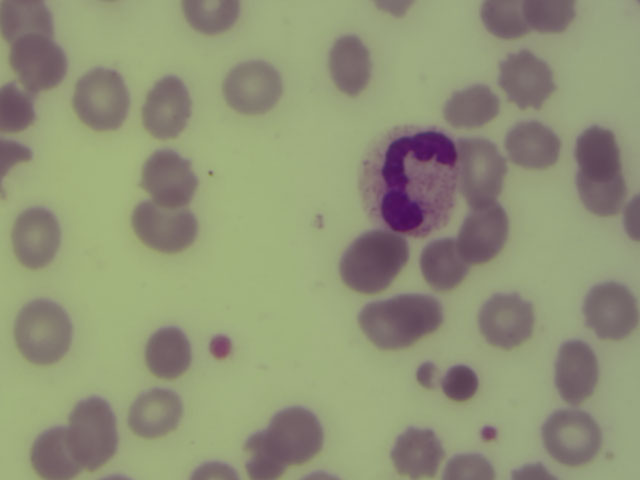Platelets: (211, 335, 234, 360), (483, 428, 495, 441)
RBC: (456, 139, 516, 204), (345, 231, 406, 294), (20, 301, 78, 366), (72, 398, 128, 464), (541, 412, 605, 467), (78, 70, 134, 132), (135, 198, 203, 248), (583, 284, 640, 342), (275, 404, 330, 463), (148, 76, 195, 145), (357, 303, 416, 357), (145, 151, 200, 207), (324, 37, 373, 98), (391, 423, 443, 479), (17, 38, 67, 94), (227, 63, 284, 112), (501, 57, 559, 105), (13, 214, 64, 268), (142, 327, 194, 379), (244, 429, 294, 480), (507, 118, 559, 167), (466, 207, 513, 260), (554, 344, 601, 397), (132, 389, 184, 436), (7, 2, 60, 48), (486, 295, 532, 348), (35, 428, 81, 479), (446, 86, 500, 127), (578, 120, 615, 179), (423, 241, 467, 288), (384, 295, 438, 333), (181, 3, 243, 34), (572, 173, 617, 212), (517, 2, 577, 31), (483, 3, 528, 41), (2, 86, 36, 129), (444, 454, 497, 480), (444, 363, 478, 400), (195, 455, 239, 480), (2, 139, 23, 183), (626, 193, 640, 246), (378, 1, 422, 16), (418, 363, 441, 388), (513, 468, 554, 480)
WBC: (365, 129, 456, 239)
